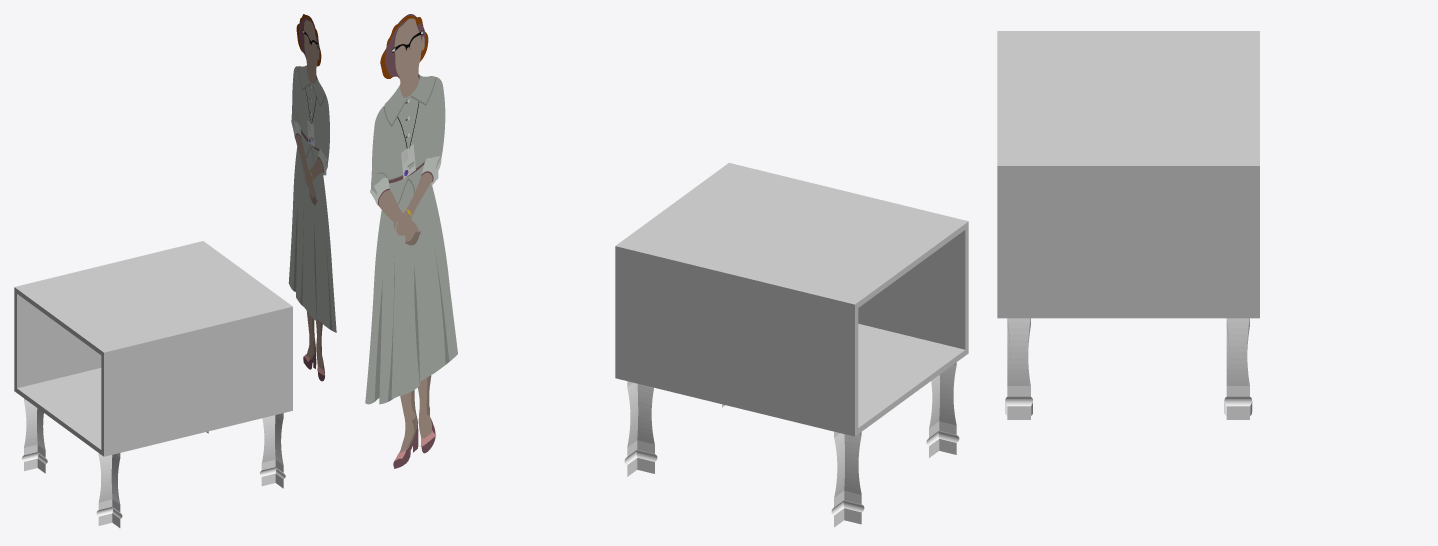
File: CPT.glb
3 views of the same model, side by side, from view 1: azimuth 30°, elevation 25°; view 2: azimuth 150°, elevation 25°; view 3: azimuth 270°, elevation 25° (orthographic). The views are drawn at different scales.
Visible parts, largest first — view 1: Model, Katherine_, Leg1, Leg2, Leg4; view 2: Model, Katherine_, Leg4, Leg3, Leg1; view 3: Model, Leg3, Leg2.
Boxes of the visible parts, <box> form: Model: <box>14,241,292,456</box>; Katherine_: <box>288,14,336,381</box>; Leg1: <box>96,453,122,527</box>; Leg2: <box>259,413,285,488</box>; Leg4: <box>22,398,47,473</box>; Model: <box>615,163,968,436</box>; Katherine_: <box>365,14,457,468</box>; Leg4: <box>831,431,864,527</box>; Leg3: <box>624,381,657,476</box>; Leg1: <box>926,362,959,457</box>; Model: <box>997,31,1259,318</box>; Leg3: <box>1224,318,1252,419</box>; Leg2: <box>1005,318,1032,419</box>.
Bounding box in the file's own units: 63.89 × 65.34 × 48.77.
